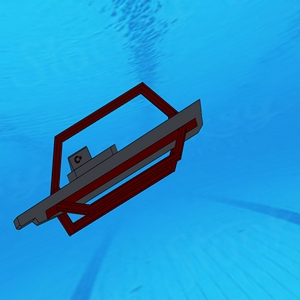submarine: (15, 77, 205, 241)
